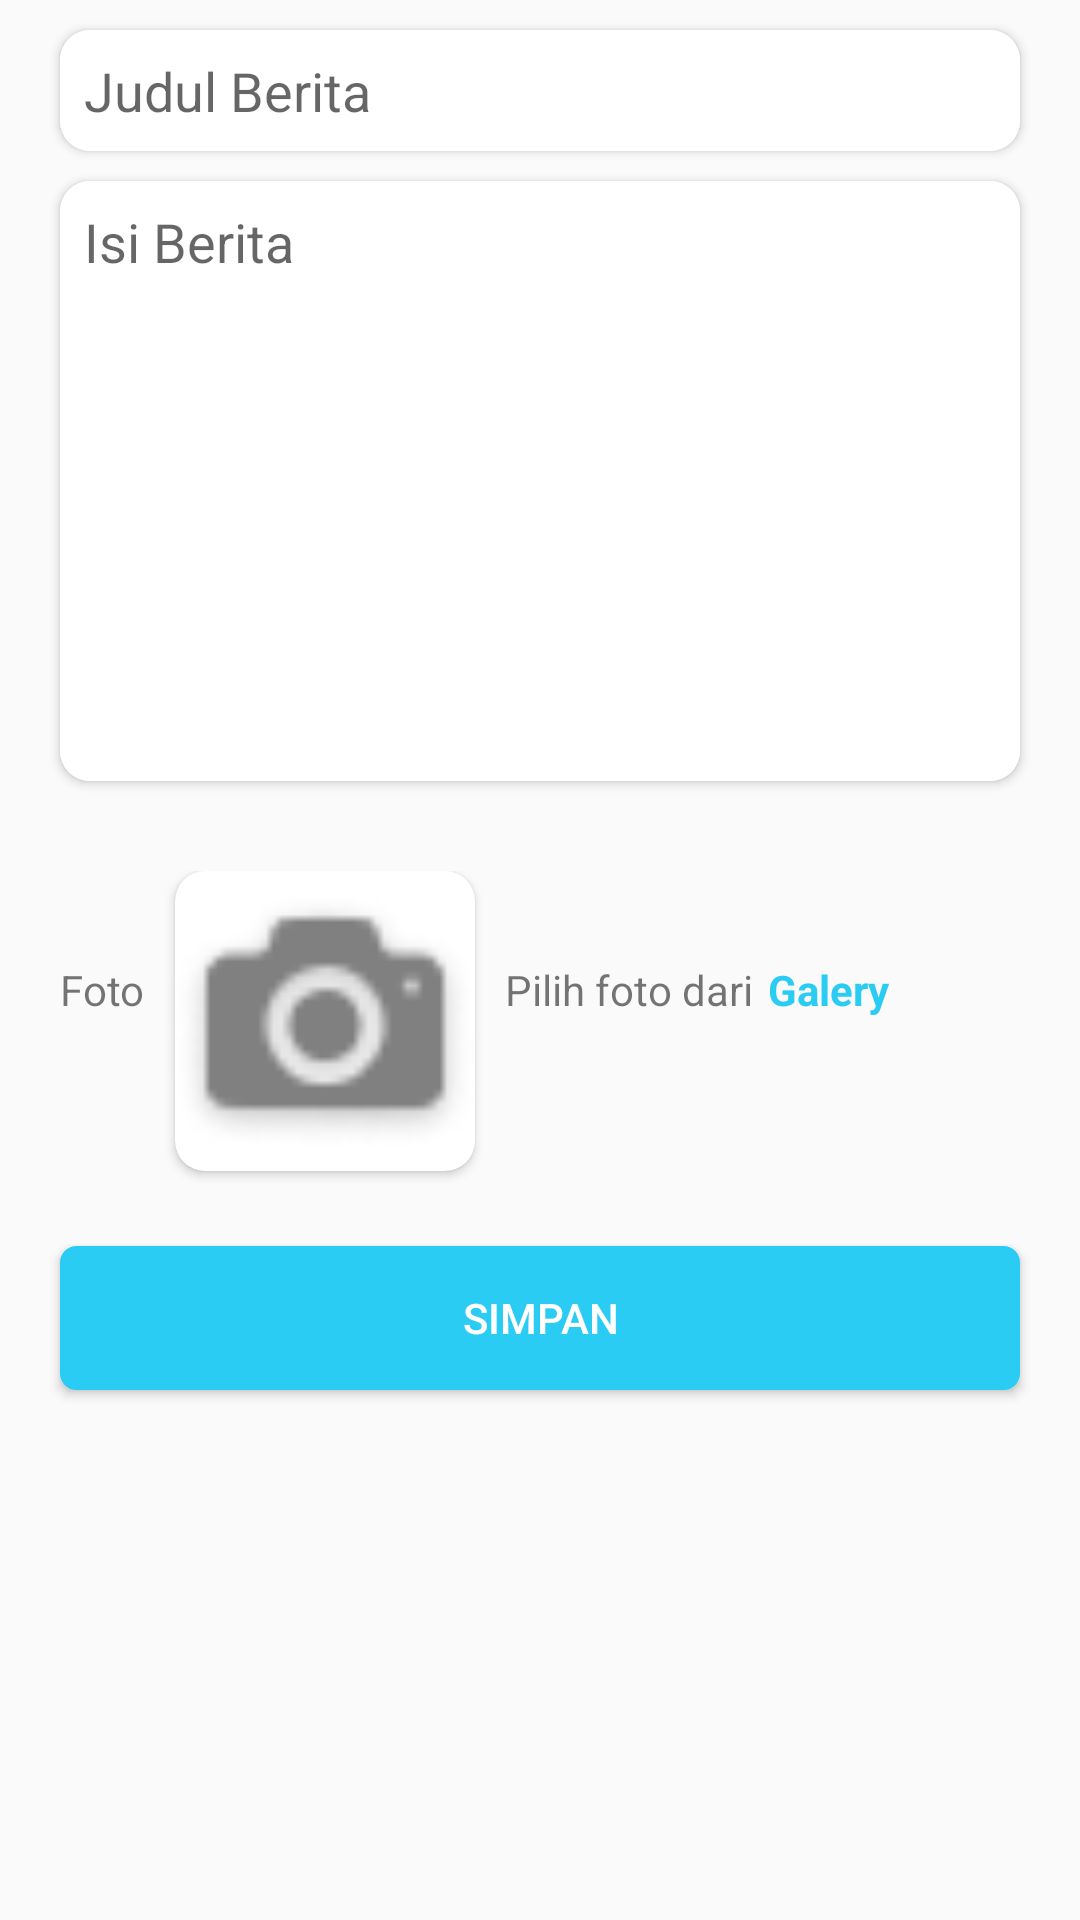

Icons on this 1080px x 1920px Android screen, each with the point to tap as point (x, y):
camera: point (325, 1028)
